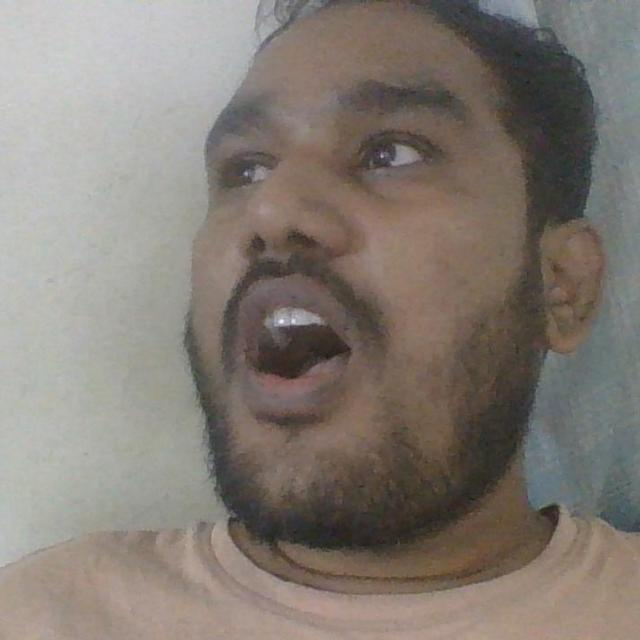Surprised: (157, 50, 620, 580)
